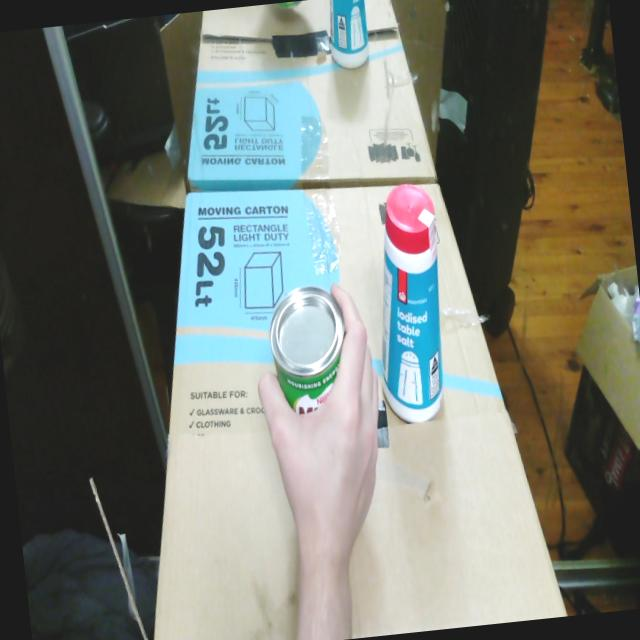nestle_milo_tin: (269, 286, 344, 414)
woolworths_salt_bottle: (382, 184, 443, 422)
